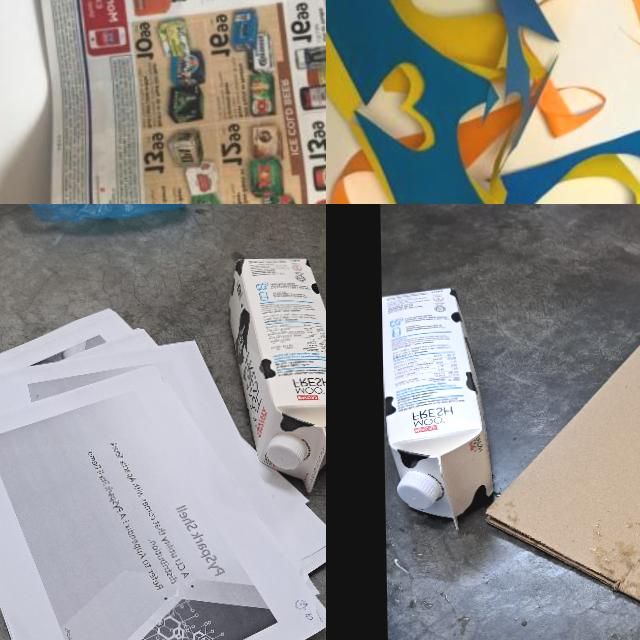caixinha: (382, 284, 493, 531), (225, 257, 326, 495)
papel: (0, 302, 326, 640), (326, 0, 640, 204), (27, 0, 326, 204)
papelão: (478, 204, 640, 640)
tampa plástica: (266, 433, 308, 469), (398, 472, 437, 510)
